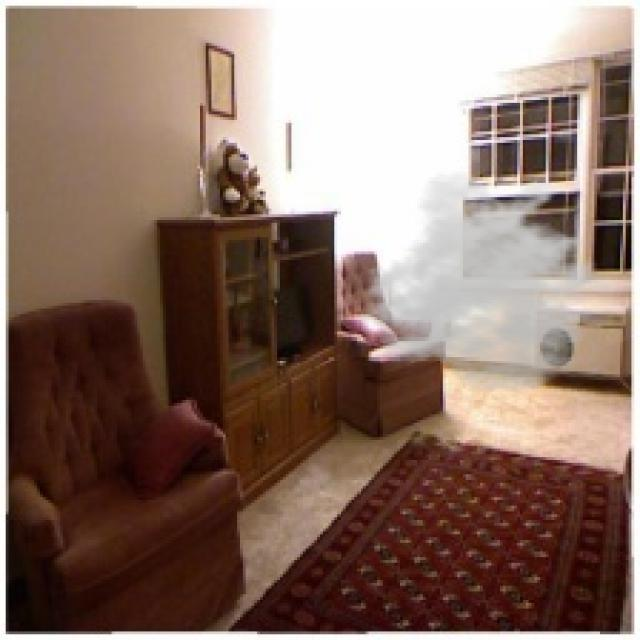Smoke: (354, 168, 632, 394)
